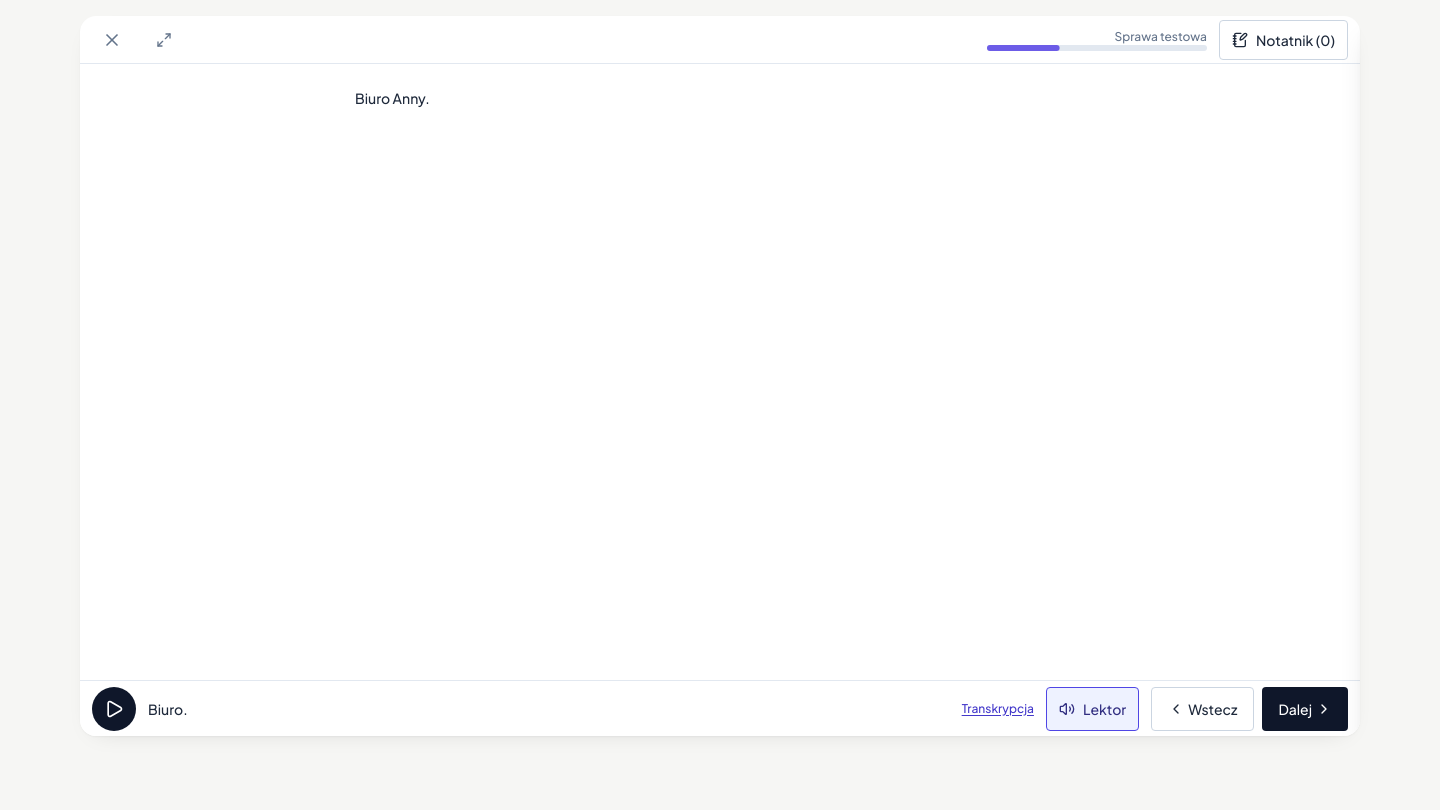
Test: CoursePlayer: odprawa (BRIEFING) › autoodtwarzanie narracji kroków (lektor włączony) › ponowne wejście w podgląd ukończonej odprawy startuje od kroku 0 bez odtwarzania (bez narracji starego kroku)
Click the button "Wstecz". click: x=1203, y=708
box: [1151,686,1254,730]
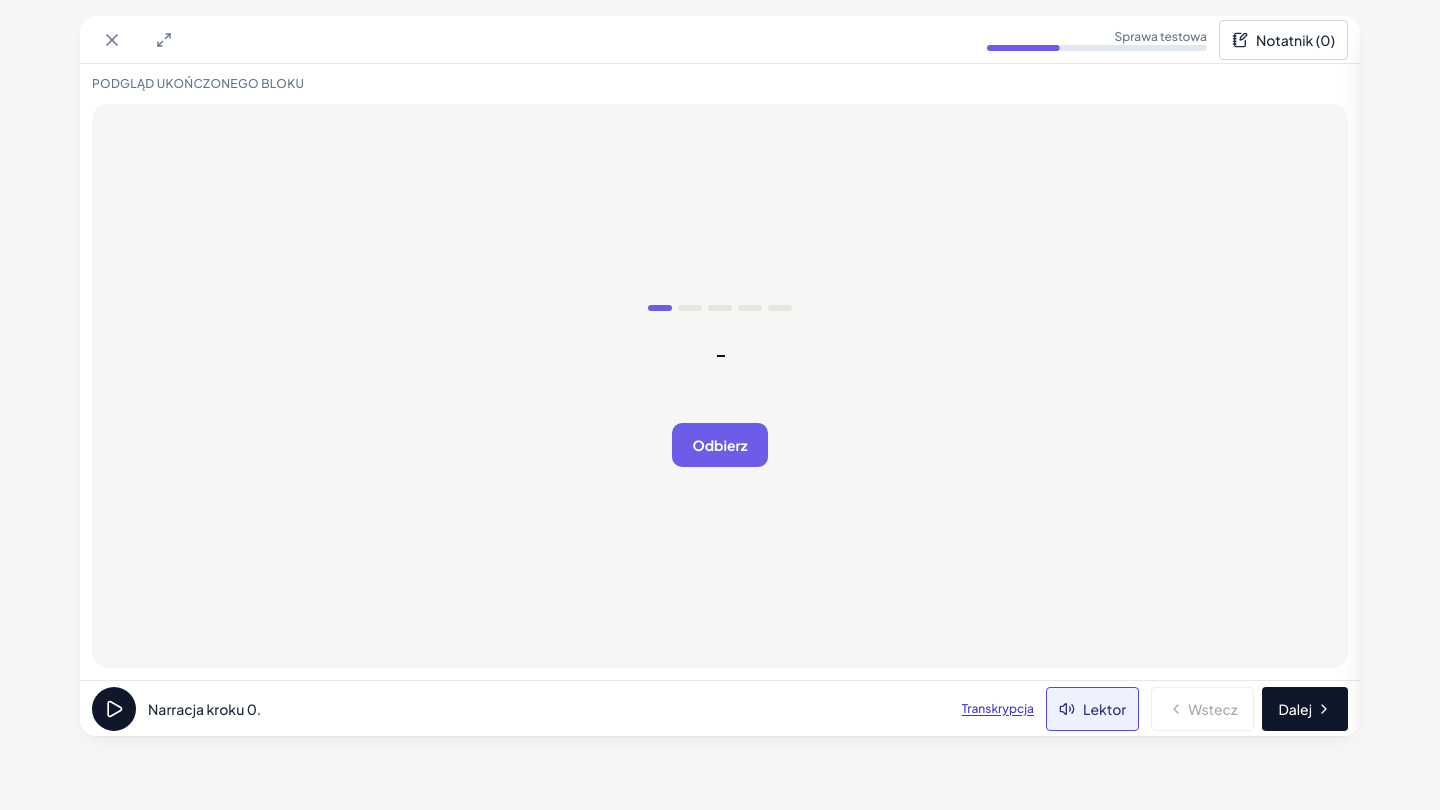
Click the button "Odbierz". click: x=720, y=445
box: [672,423,768,467]
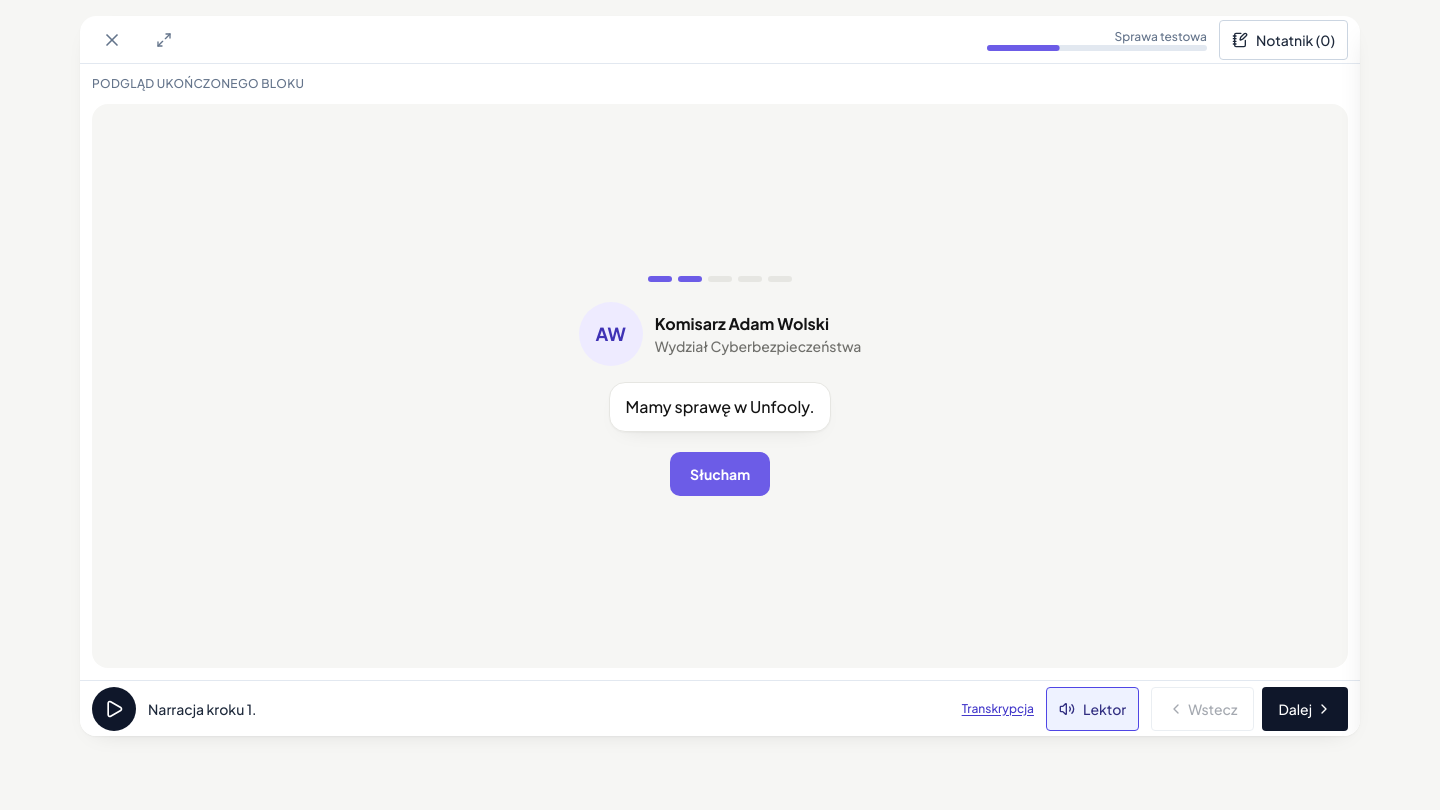
Click the button "Słucham". click: x=720, y=474
box: [670,452,770,496]
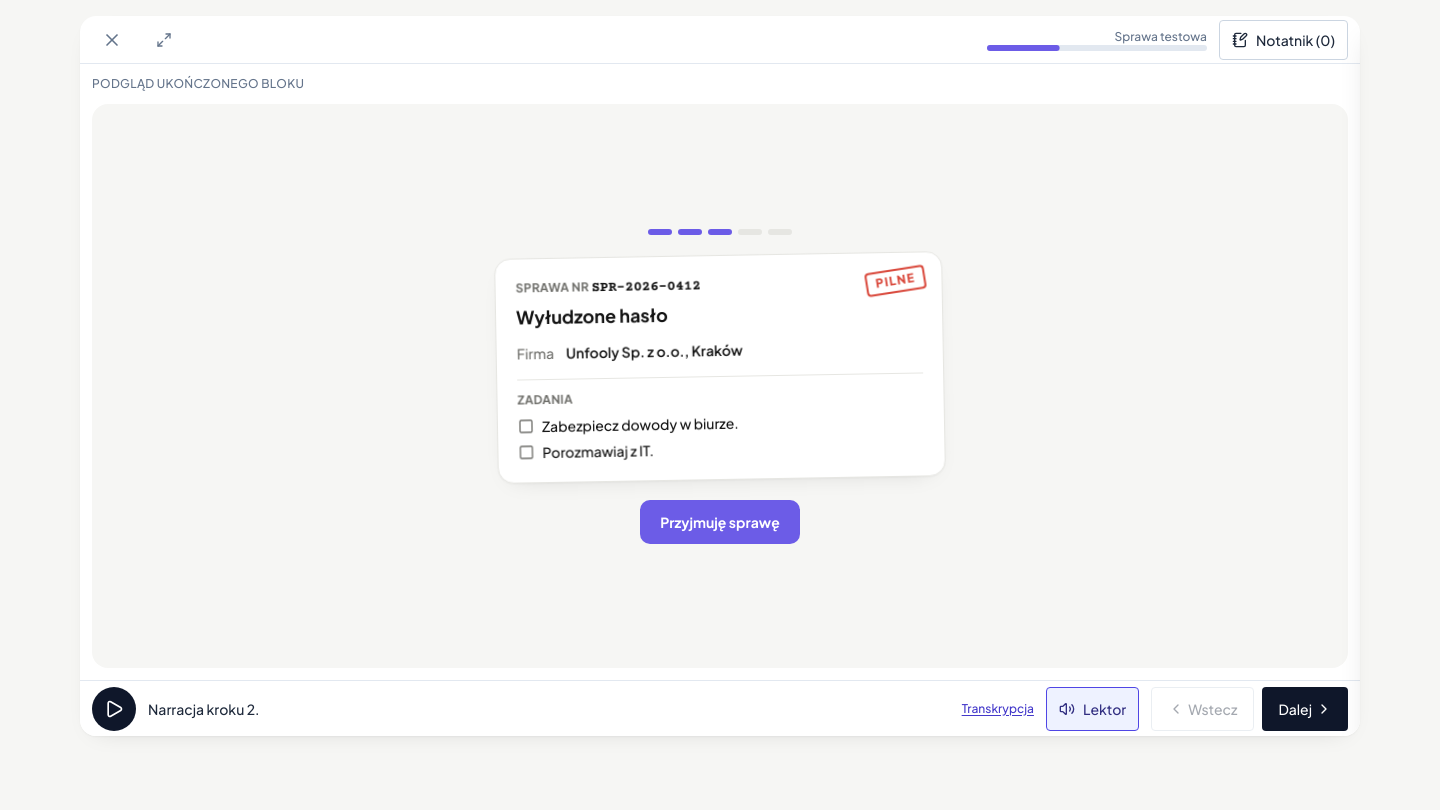
# W podglądzie „Dalej” w pasku (bez "Pomiń odprawę", D-106) przewija na żywy blok.
Click the button "Dalej". click: x=1305, y=708
box: [1262,686,1348,730]
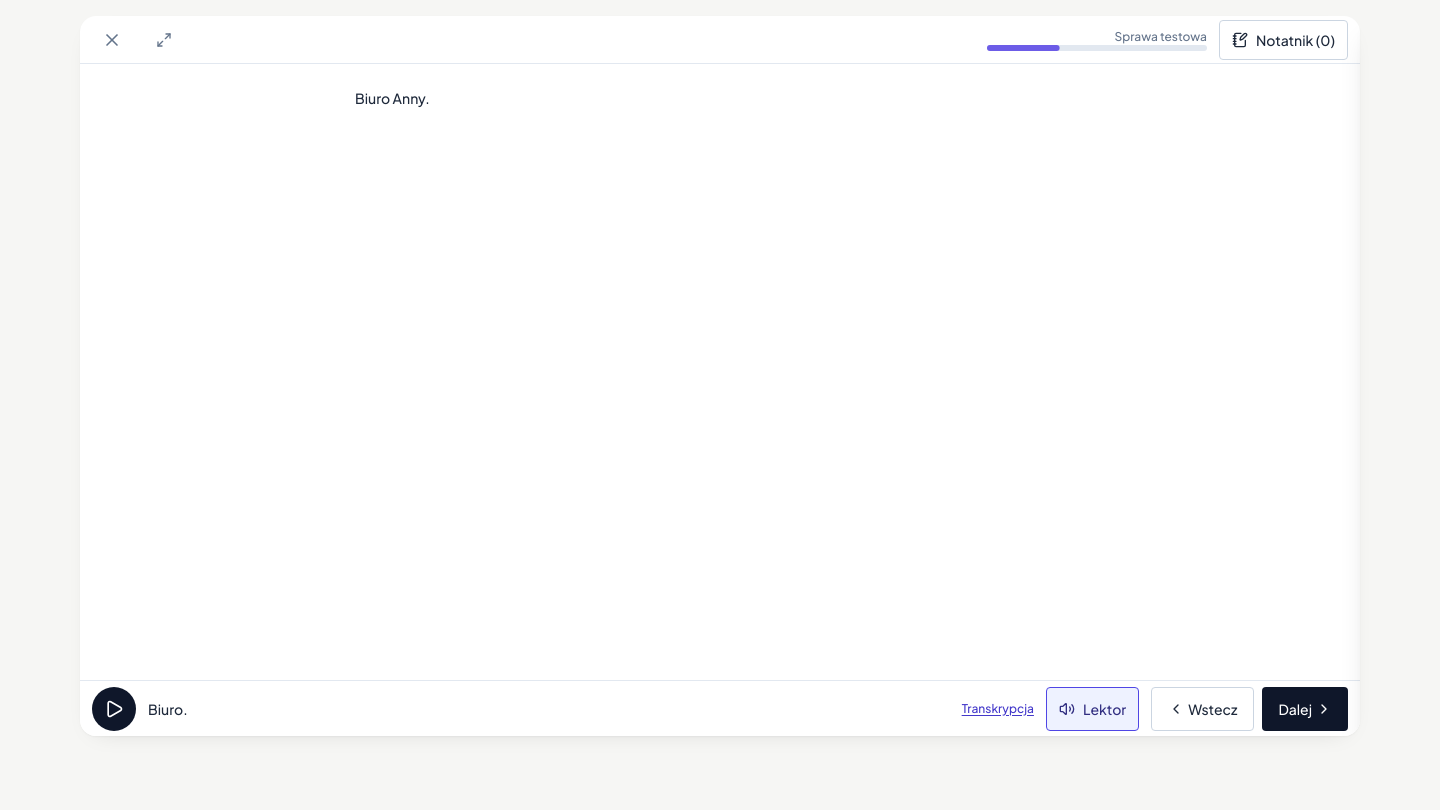
Click the button "Wstecz". click: x=1203, y=708
box: [1151,686,1254,730]
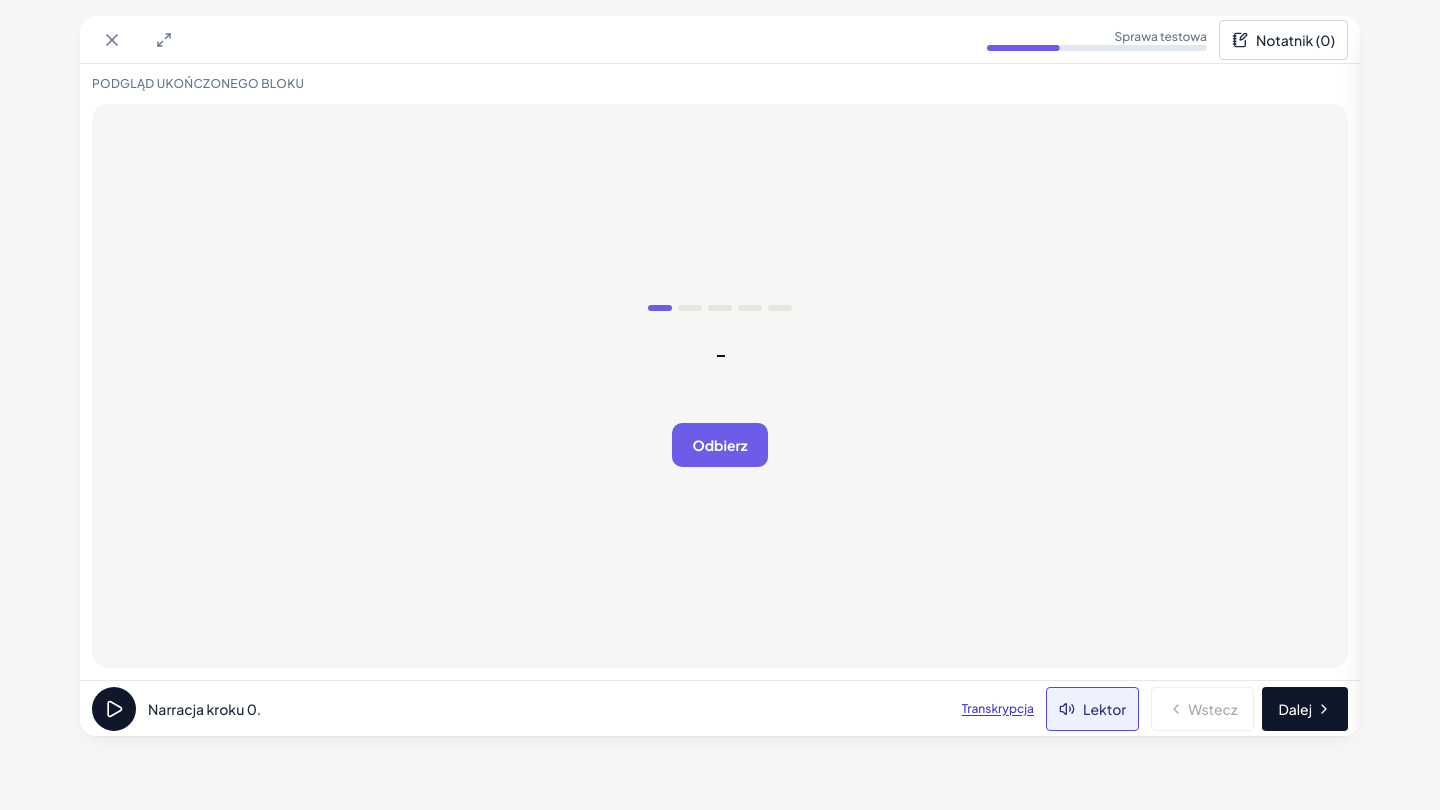
expect the button "Odbierz" is shown: met, box [672,423,768,467]
Click the button "Transkrypcja". click: x=998, y=708
box: [962,700,1034,716]
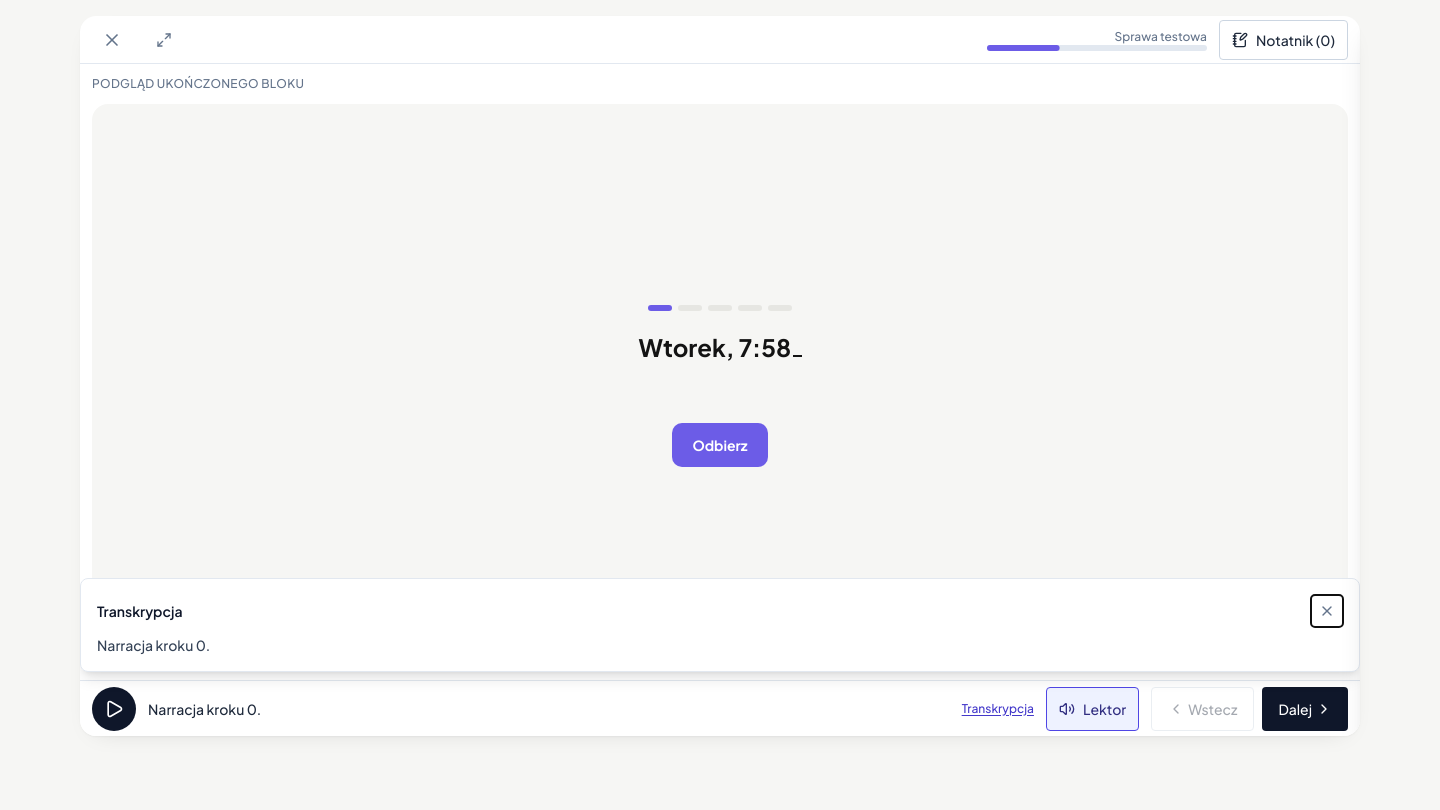
expect the 1st text "Narracja kroku 0." is shown: met, box [97,636,210,654]
